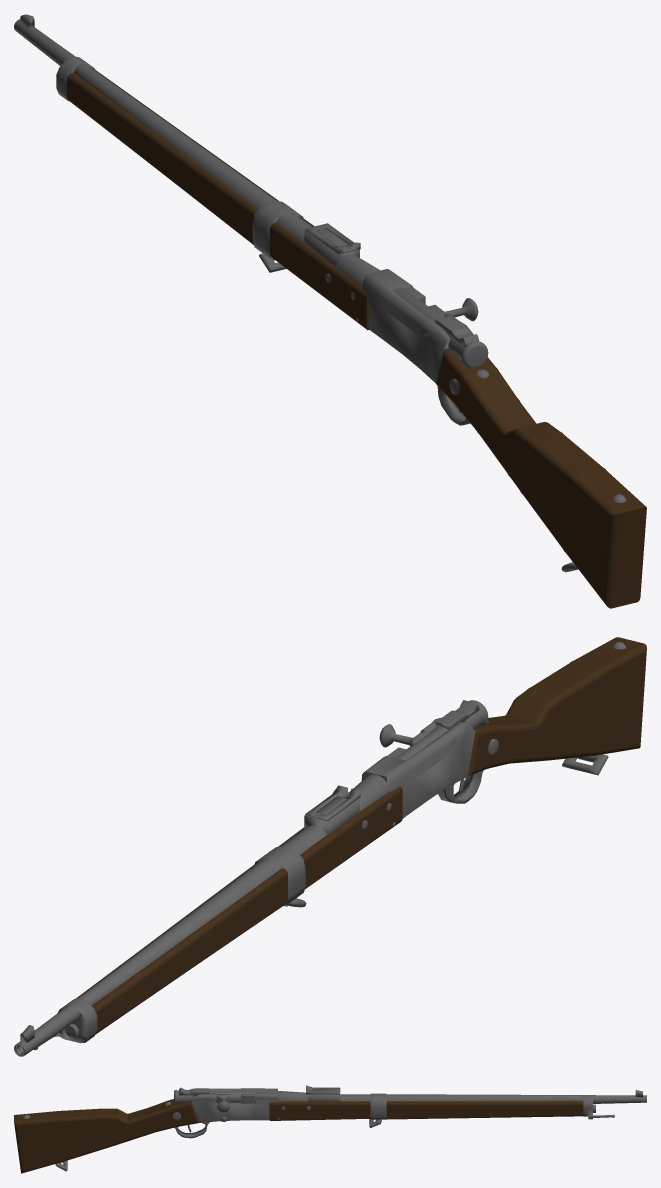
File: rifle_a2d68504.glb
3 renders of one model, top to bottom at view 1: azimuth 30°, elevation 25°; view 2: azimuth 150°, elevation 25°; view 3: azimuth 270°, elevation 25°, orthographic. The views are drawn at different scales.
Parts seen in each view (by area): view 1: Crosse, Canon; view 2: Crosse, Canon; view 3: Crosse, Canon.
Part boxes in pixels (x1,y1,x2,y2): Crosse: [67, 68, 646, 608]; Canon: [14, 14, 626, 572]; Crosse: [76, 637, 646, 1034]; Canon: [14, 642, 626, 1056]; Crosse: [14, 1099, 583, 1173]; Canon: [23, 1085, 646, 1171].
Size of the model in its own units: 0.2107 by 0.471 by 3.29.
